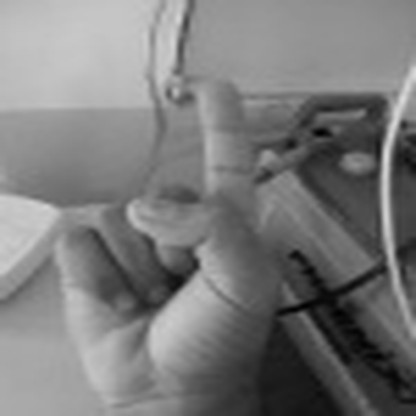d: (48, 70, 274, 414)
